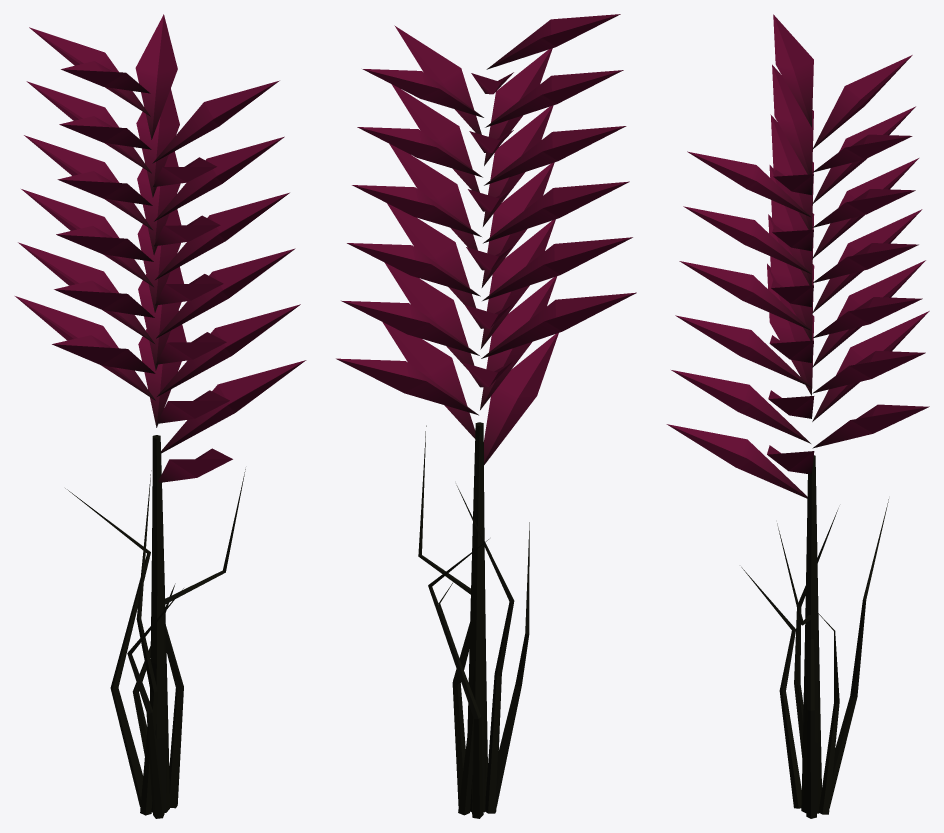
File: Plant-S-4.fbx
3 renders of one model, left to right at view 1: azimuth 30°, elevation 25°; view 2: azimuth 150°, elevation 25°; view 3: azimuth 270°, elevation 25°, orthographic. The views are drawn at different scales.
Visible parts, largest first — view 1: OUT-Plant; view 2: OUT-Plant; view 3: OUT-Plant.
Boxes of the visible parts, x1=… form: OUT-Plant: x1=15, y1=14, x2=306, y2=818; OUT-Plant: x1=336, y1=14, x2=636, y2=818; OUT-Plant: x1=666, y1=14, x2=929, y2=818.
Bounding box in the file's own units: 0.1044 × 0.3067 × 0.0988.
